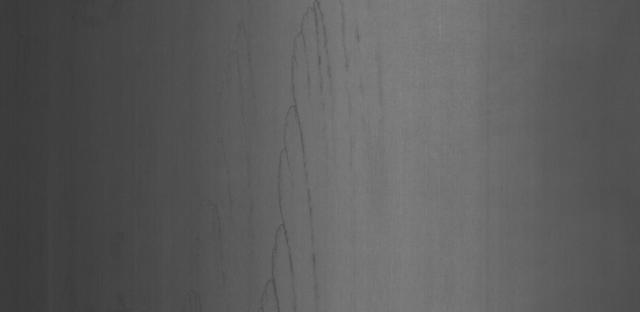water_spot: (233, 9, 394, 304)
